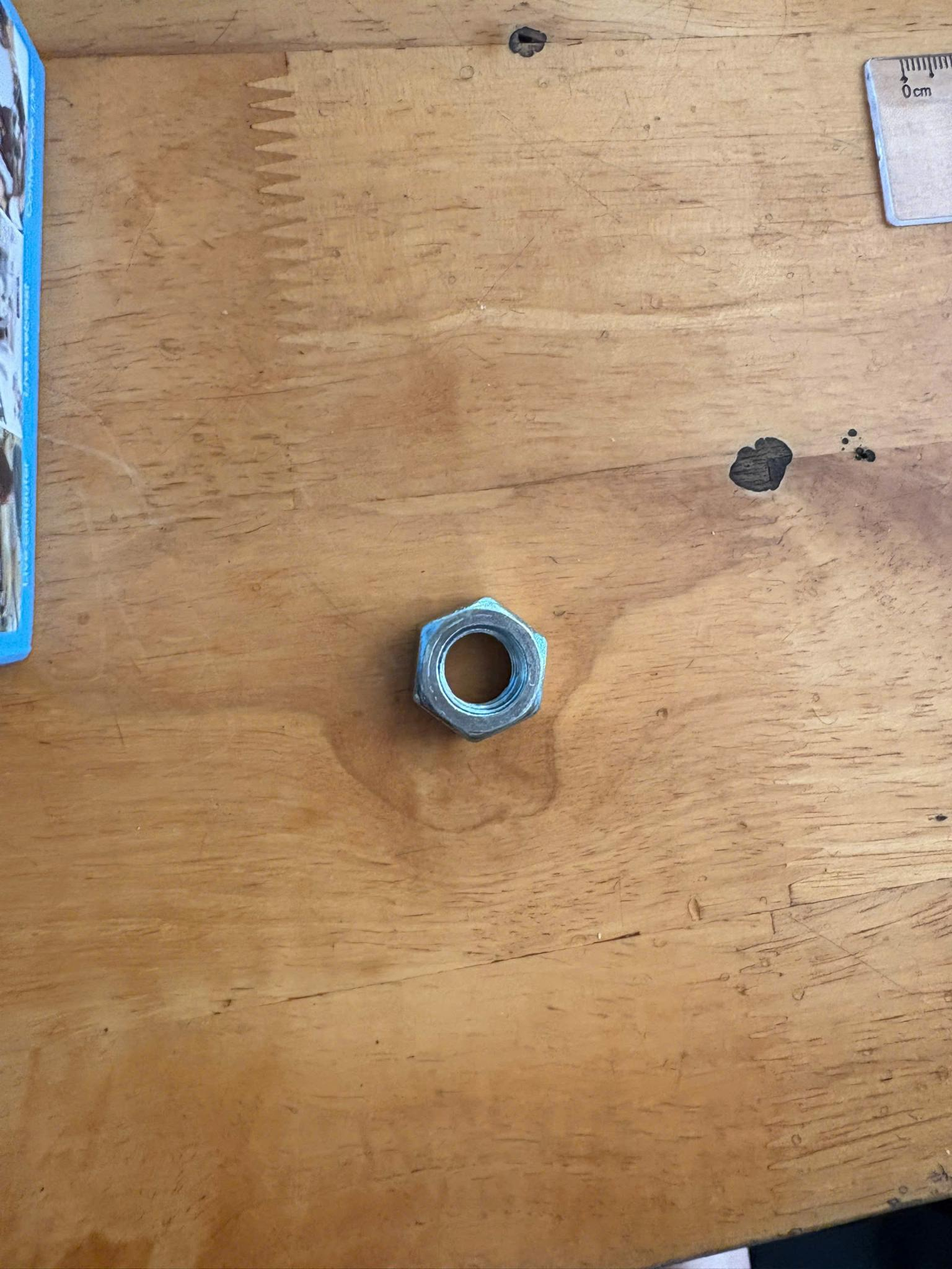nut: (397, 585, 593, 752)
